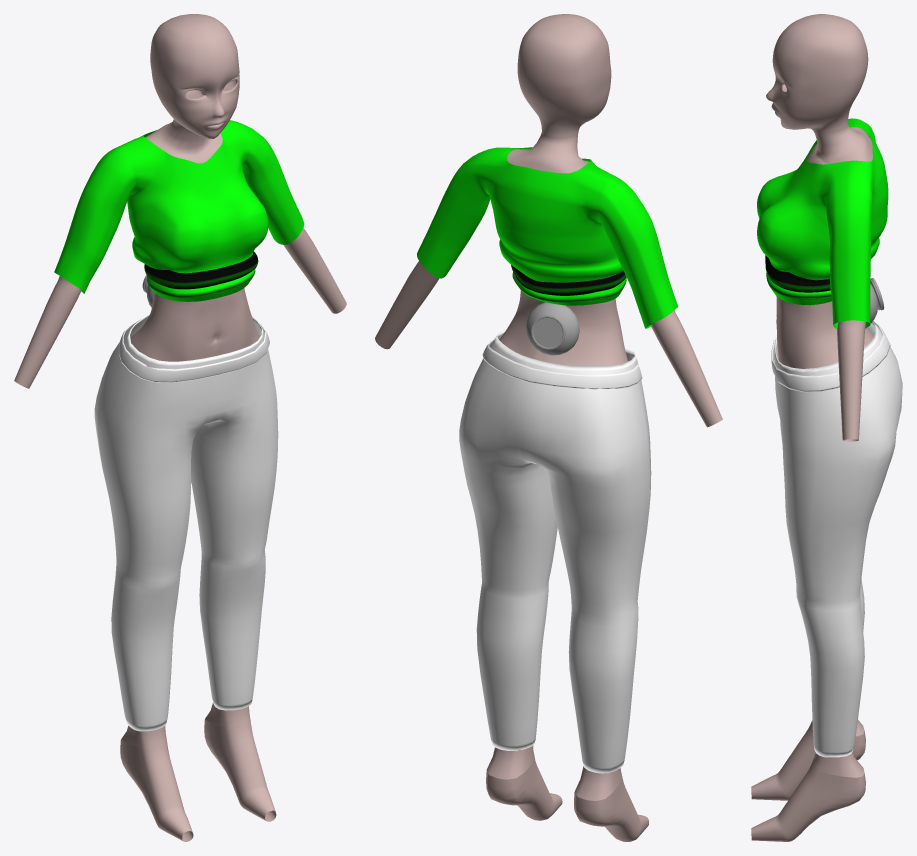
File: FBX_Strain_2.fbx
The picture shows the model from 3 angles, left to right: view 1: azimuth 30°, elevation 25°; view 2: azimuth 150°, elevation 25°; view 3: azimuth 270°, elevation 25°; orthographic projection. The views are drawn at different scales.
Visible parts, largest first — view 1: polySurface20, polySurface19, polySurface13, pPlane6; view 2: polySurface20, polySurface19, polySurface13, pPlane6, pCylinder6; view 3: polySurface20, polySurface19, polySurface13, pPlane6, pCylinder6.
Boxes of the visible parts, box(x1,y1,x2,y2) form: polySurface20: box(94, 313, 278, 731); polySurface19: box(14, 14, 346, 841); polySurface13: box(54, 120, 304, 301); pPlane6: box(118, 315, 269, 382); polySurface20: box(459, 330, 651, 773); polySurface19: box(375, 14, 722, 841); polySurface13: box(417, 147, 678, 328); pPlane6: box(482, 338, 642, 389); pCylinder6: box(526, 302, 579, 355); polySurface20: box(774, 322, 902, 757); polySurface19: box(751, 14, 874, 841); polySurface13: box(757, 118, 888, 328); pPlane6: box(771, 321, 890, 392); pCylinder6: box(870, 278, 884, 323).
Size of the model in its own units: 9.93 by 22.59 by 3.88.
